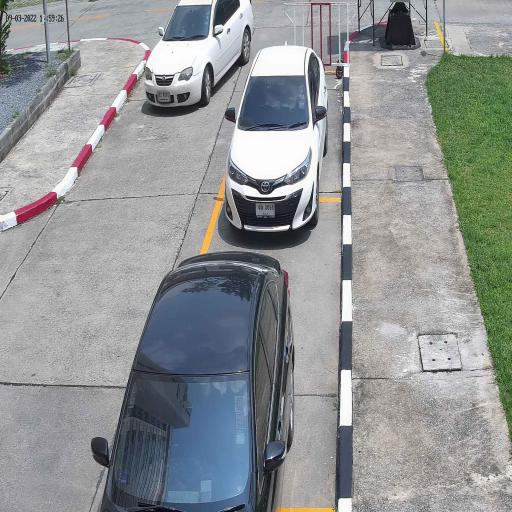car: (98, 248, 296, 512), (224, 42, 330, 236), (143, 0, 256, 109)
